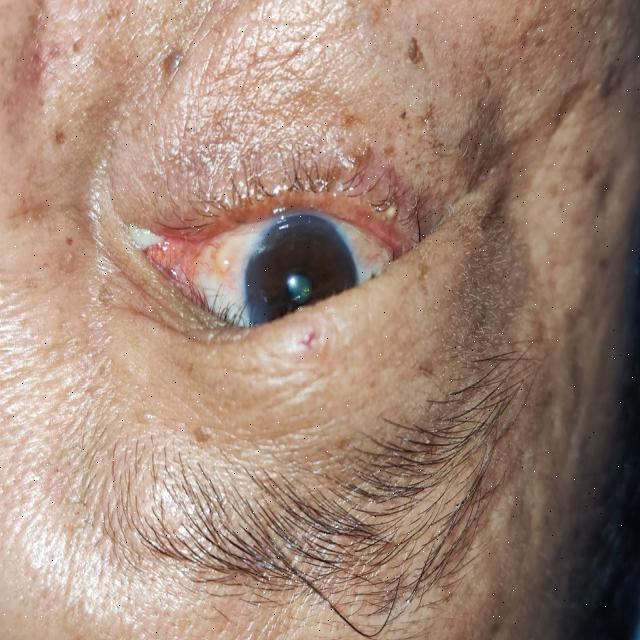Cataract: (244, 216, 358, 354)
